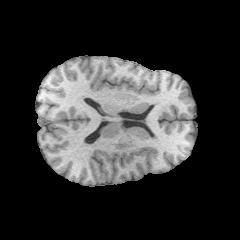glioma: (98, 103, 157, 149)
